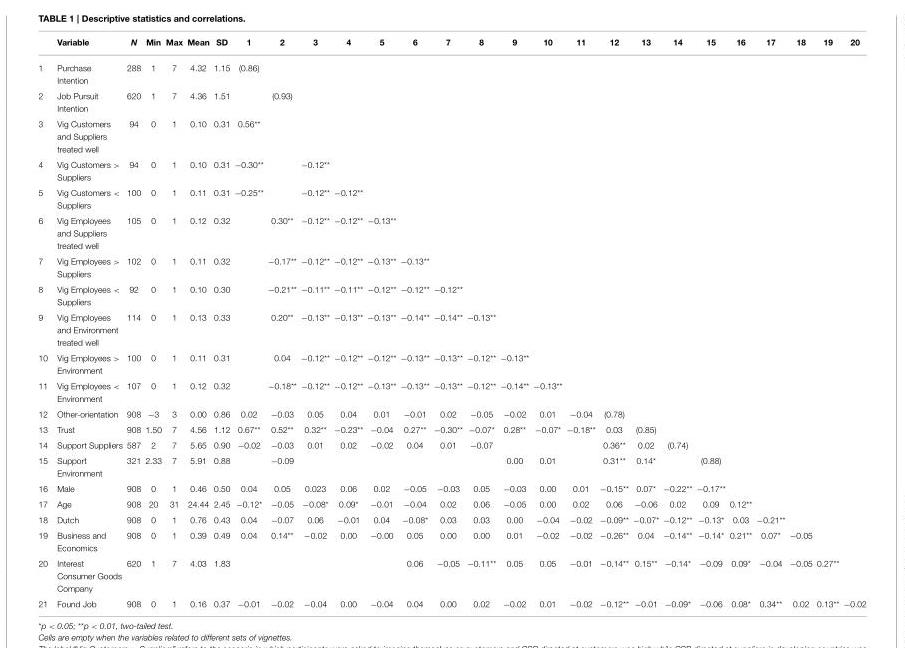table: (38, 37, 866, 608)
table column: (52, 37, 124, 608), (298, 37, 332, 608), (431, 37, 465, 608), (597, 37, 631, 608), (232, 37, 265, 608), (265, 37, 298, 608), (332, 37, 365, 608), (365, 37, 398, 608), (398, 37, 431, 608), (465, 37, 498, 608), (498, 37, 531, 608), (531, 37, 564, 608), (564, 37, 597, 608), (661, 37, 694, 608), (694, 37, 727, 608), (754, 37, 787, 608), (631, 37, 661, 608), (727, 37, 754, 608), (787, 37, 814, 608), (814, 37, 841, 608), (185, 37, 211, 608), (841, 37, 866, 608), (163, 37, 185, 608), (211, 37, 232, 608), (143, 37, 163, 608), (124, 37, 143, 608), (38, 37, 52, 608)
table column header: (38, 37, 866, 54)
table row: (38, 212, 866, 253), (38, 309, 866, 350), (38, 555, 866, 596), (38, 116, 866, 156), (38, 54, 866, 88), (38, 88, 866, 116), (38, 156, 866, 184), (38, 184, 866, 212), (38, 253, 866, 281), (38, 281, 866, 309), (38, 350, 866, 378), (38, 378, 866, 406), (38, 452, 866, 480), (38, 527, 866, 555), (38, 37, 866, 54), (38, 421, 866, 437), (38, 480, 866, 496), (38, 511, 866, 527), (38, 406, 866, 421), (38, 437, 866, 452), (38, 496, 866, 511), (38, 596, 866, 608)
